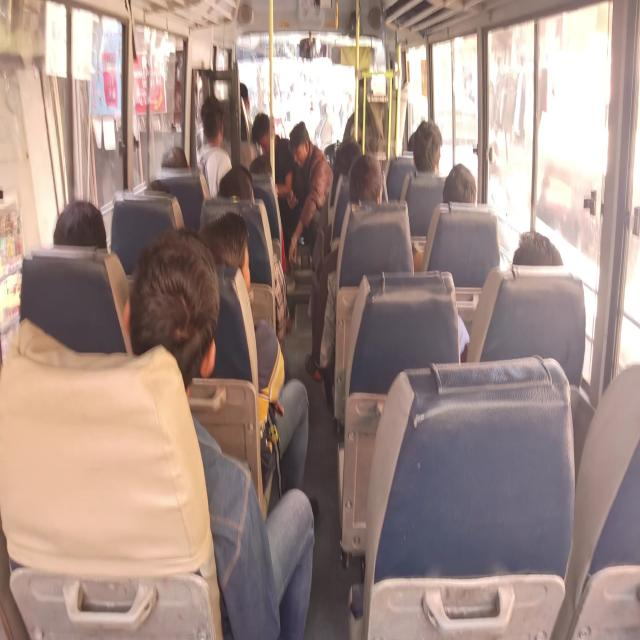person: (122, 219, 220, 390), (201, 208, 255, 294), (50, 192, 108, 260), (508, 225, 567, 276), (348, 153, 388, 212), (412, 115, 444, 182), (441, 156, 476, 214), (219, 161, 257, 211), (198, 93, 229, 152), (330, 136, 369, 178), (284, 121, 315, 166), (158, 140, 188, 183), (248, 106, 274, 155), (143, 172, 171, 205), (352, 66, 374, 104), (248, 150, 278, 176), (238, 78, 253, 120), (406, 121, 418, 153)
